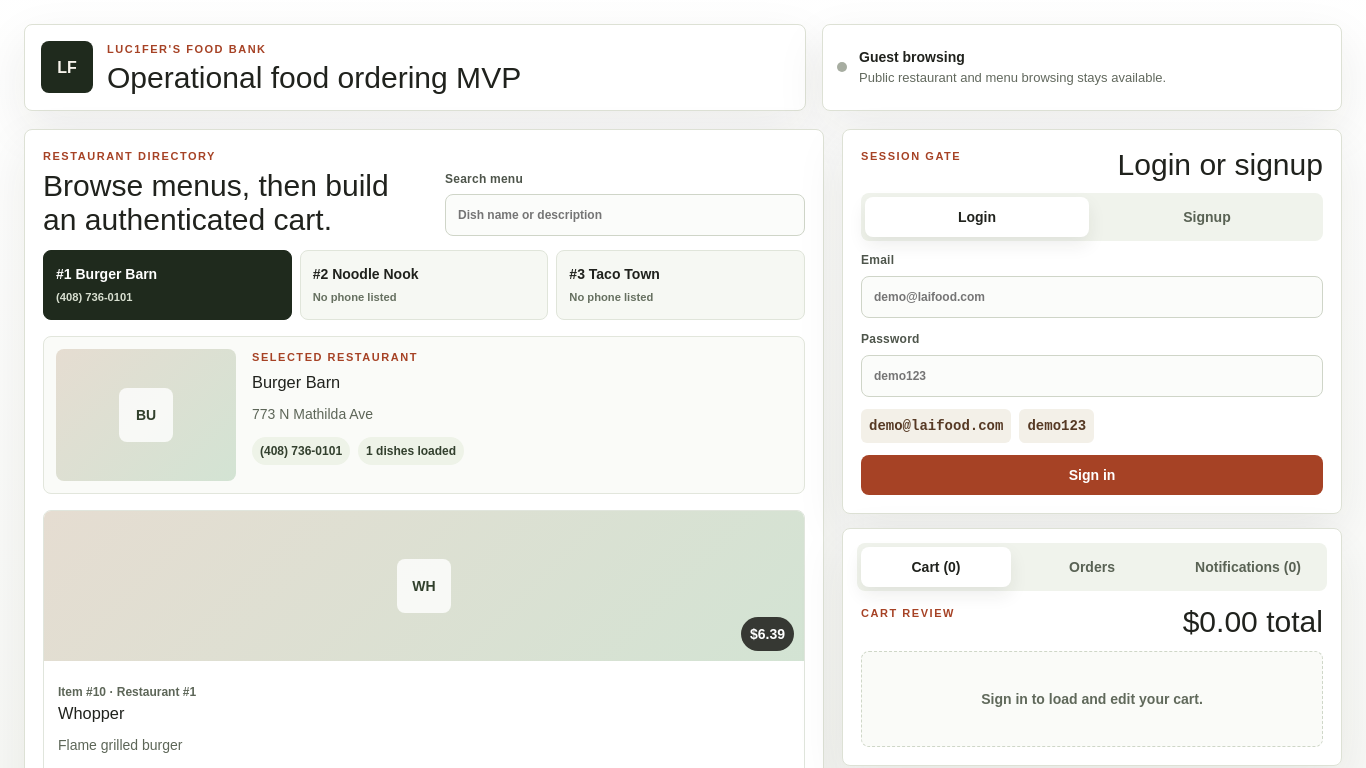
Test: menu loading › never lets a stale menu response overwrite the restaurant selected after it
This screenshot has width=1366, height=768.
Expected: the heading "Whopper" is shown, [58, 704, 124, 722]
Click the button "#2 Noodle Nook No phone listed" at (424, 285), box [300, 250, 548, 320]
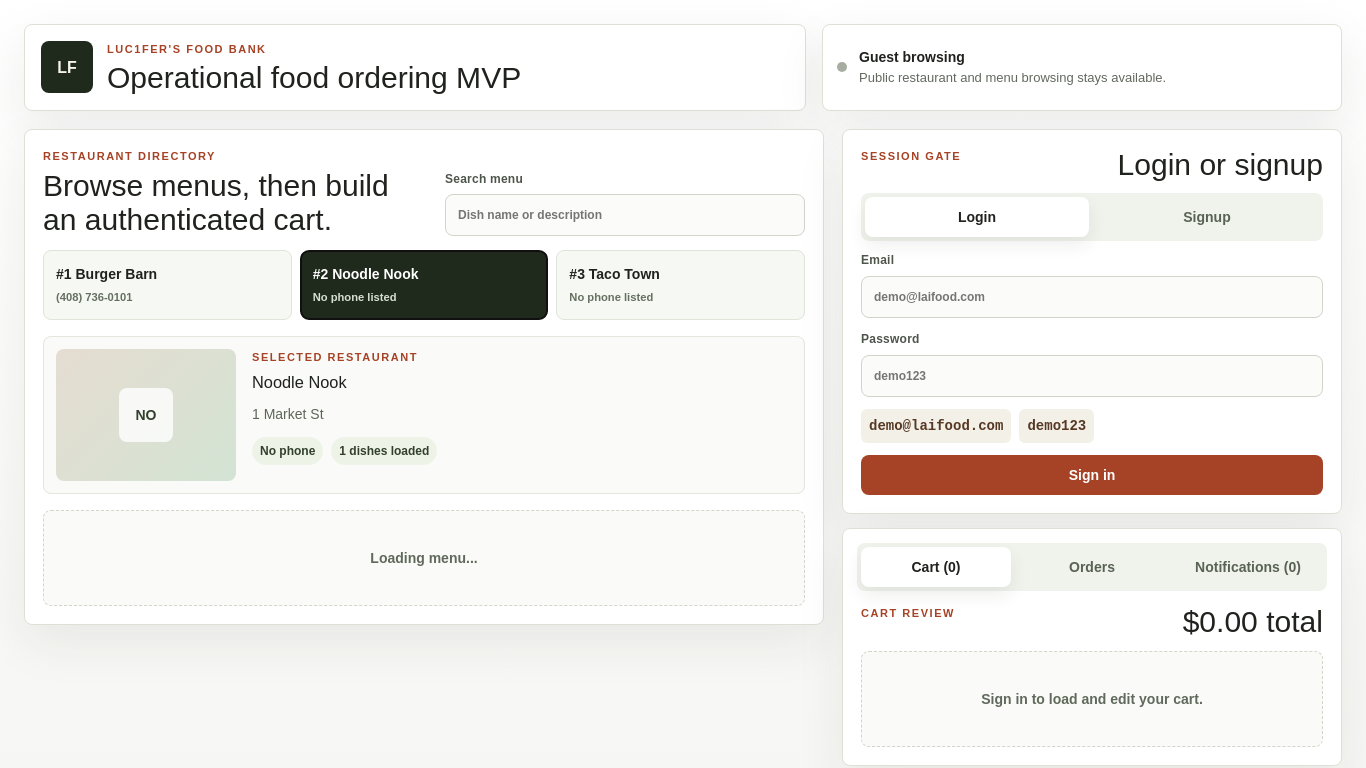
Now the text "Loading menu..." is shown, box [43, 510, 805, 606]
Click the button "#3 Taco Town No phone listed" at (681, 285), box [556, 250, 805, 320]
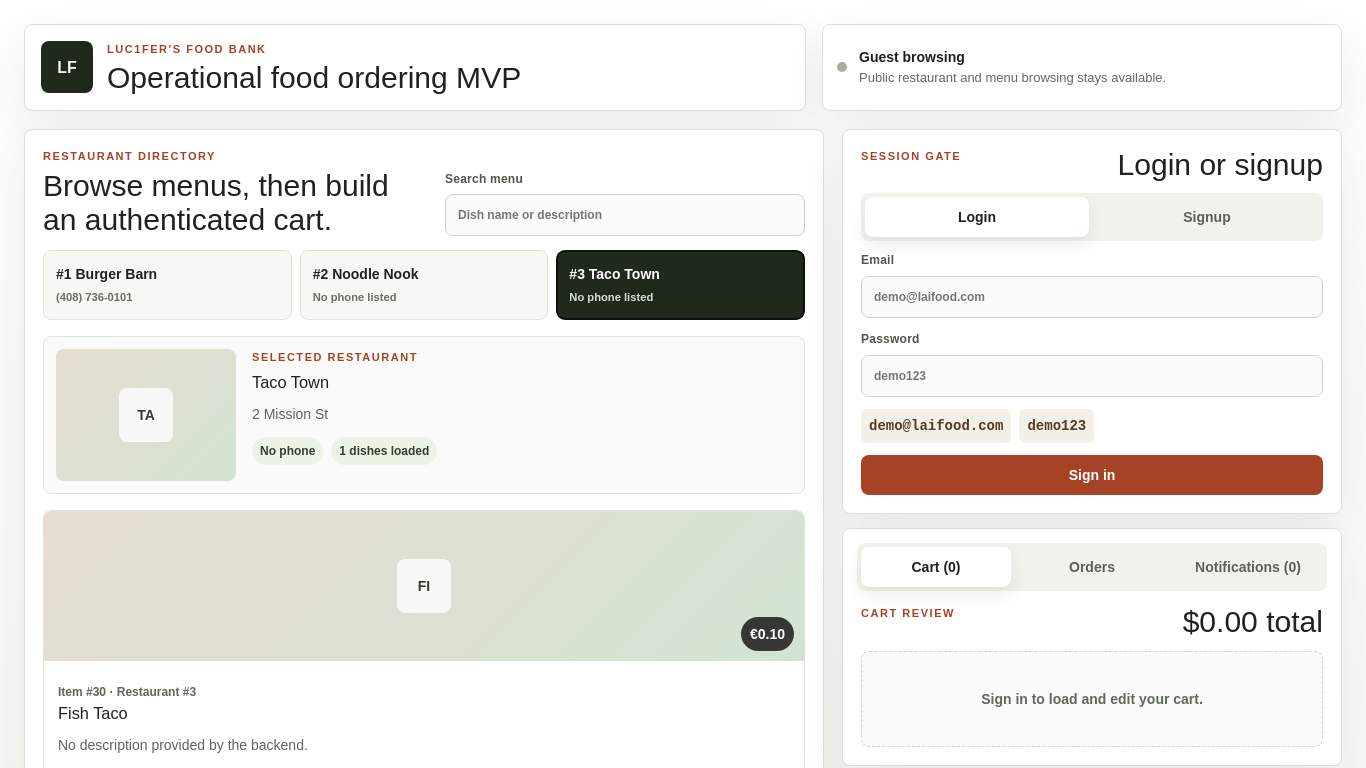
Now the heading "Fish Taco" is shown, box [58, 704, 128, 722]
Now the heading "Taco Town" is shown, box [252, 373, 329, 391]
